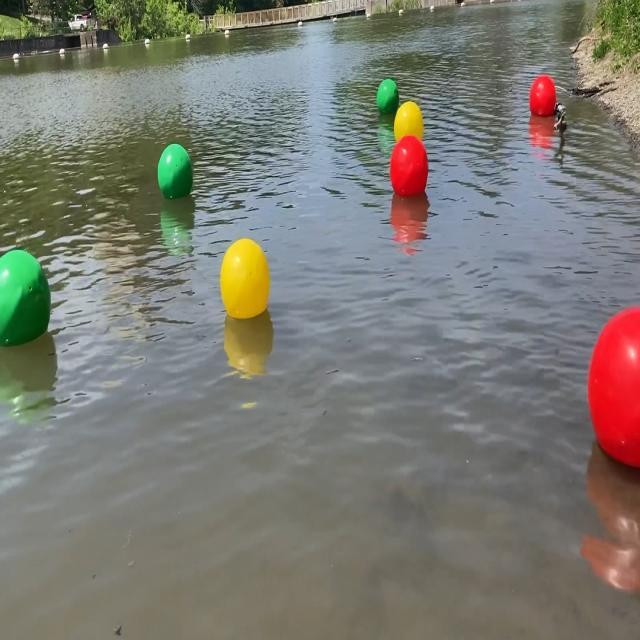buoy: (584, 300, 640, 473), (0, 248, 53, 350), (219, 238, 273, 320), (390, 134, 430, 198), (156, 144, 192, 198), (529, 72, 560, 120), (395, 101, 423, 141), (377, 76, 400, 112)
